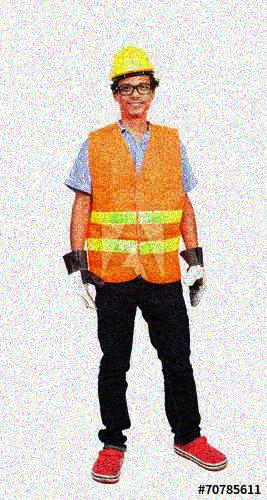helmet: (108, 47, 159, 116)
